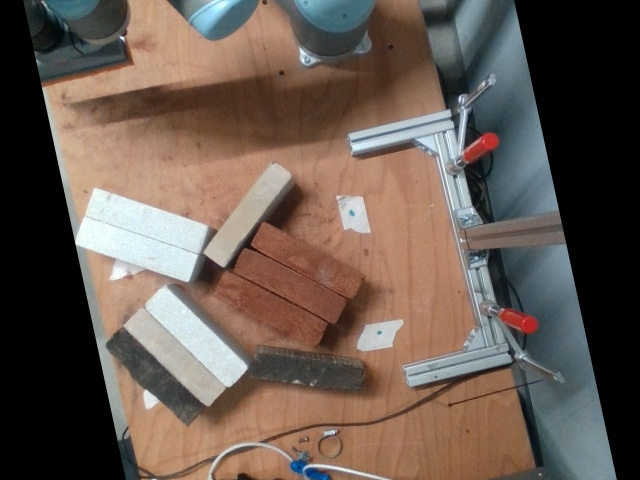brick-side: (146, 289, 245, 387), (125, 309, 223, 406), (106, 330, 202, 424), (205, 161, 288, 263), (250, 223, 362, 298), (233, 247, 345, 322), (214, 272, 326, 347), (87, 191, 202, 251), (77, 218, 191, 277), (253, 358, 362, 392)
